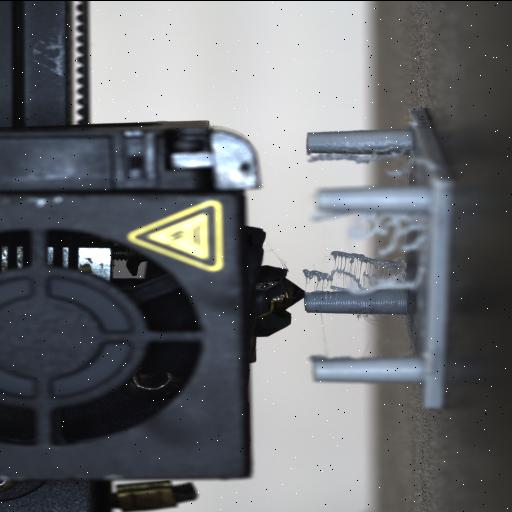stringing: (304, 245, 399, 285)
